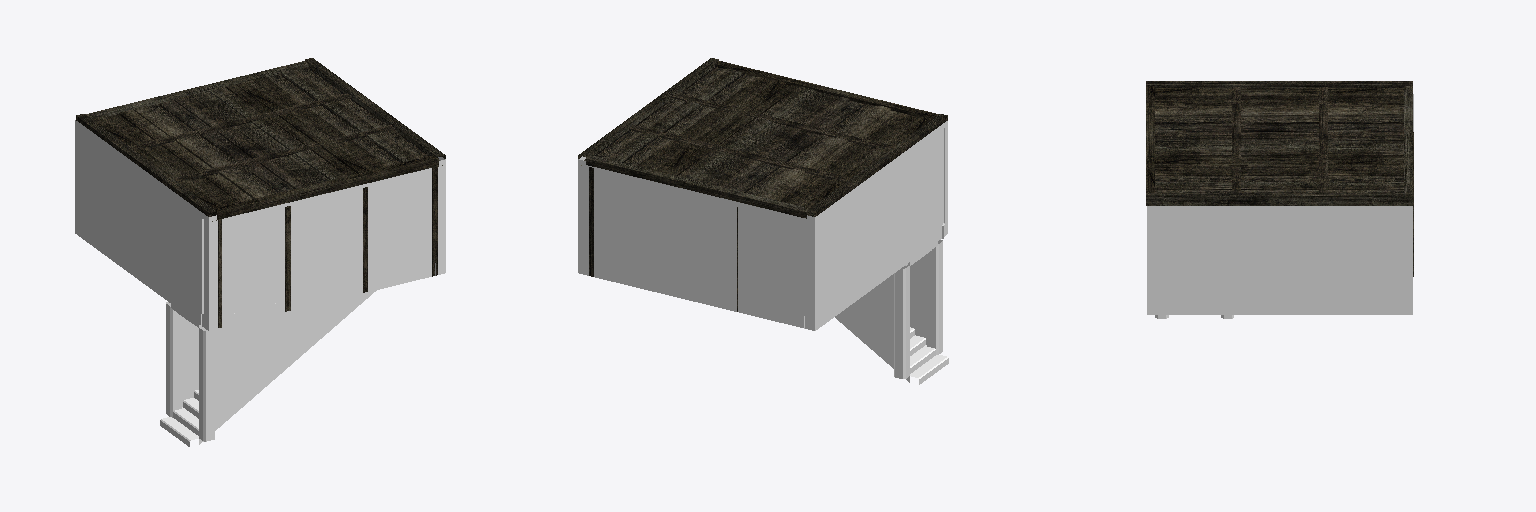
The picture shows the model from 3 angles: view 1: azimuth 30°, elevation 25°; view 2: azimuth 150°, elevation 25°; view 3: azimuth 270°, elevation 25°; orthographic projection.
Visible parts, largest first — view 1: mesh6, mesh2, mesh0, mesh4, mesh1; view 2: mesh6, mesh2, mesh0, mesh4, mesh1; view 3: mesh2, mesh6.
Part boxes in pixels (x1,y1,x2,y2): mesh6: (75,120,445,330); mesh2: (76,58,445,327); mesh0: (170,290,376,444); mesh4: (166,219,214,441); mesh1: (160,390,198,446); mesh6: (578,121,947,330); mesh2: (578,58,947,311); mesh0: (835,241,938,382); mesh4: (894,128,944,378); mesh1: (910,327,948,384); mesh2: (1146,81,1413,276); mesh6: (1147,206,1412,314).
Size of the model in its own units: 7.71 by 7.12 by 7.23.
8 materials, 2 textured.